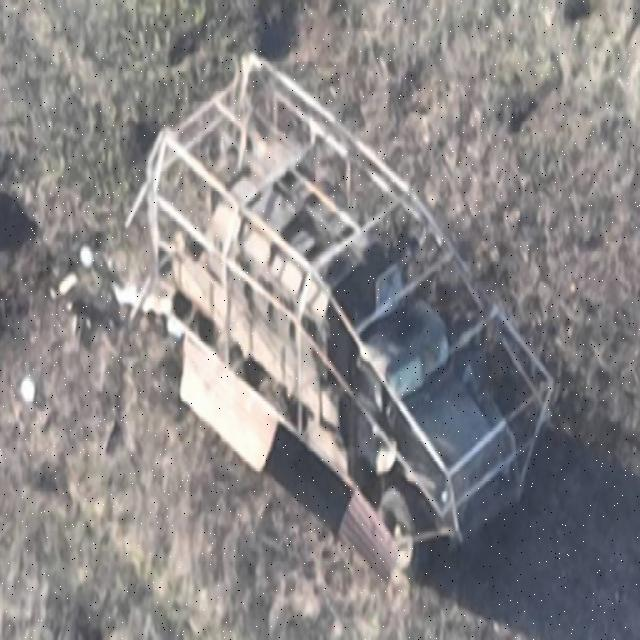TRUCK: (144, 51, 554, 575)
